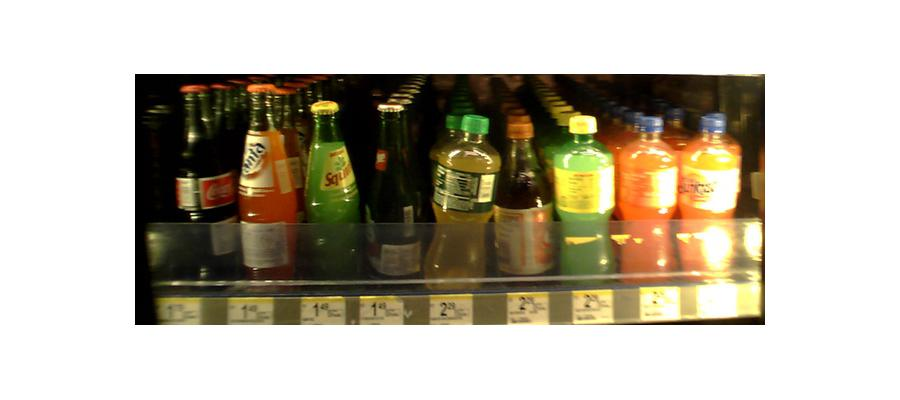bottle: (173, 82, 236, 285), (238, 83, 299, 283), (427, 115, 497, 284), (364, 98, 424, 280), (556, 111, 618, 281), (616, 111, 678, 279), (302, 98, 356, 282), (680, 113, 739, 281), (495, 112, 552, 283)
